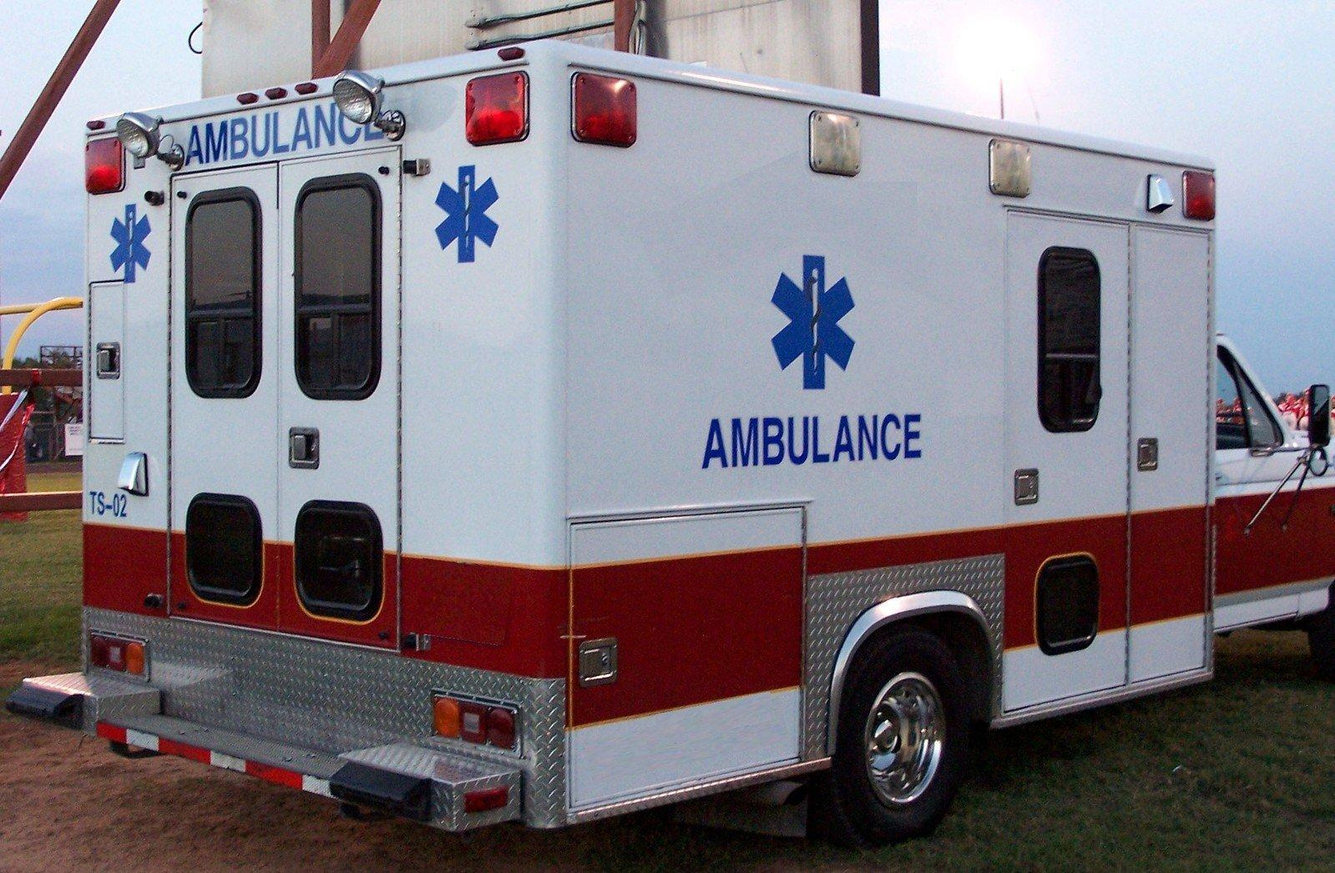Ambulance: (693, 403, 938, 476), (766, 253, 862, 394), (432, 164, 510, 268), (96, 194, 157, 283)
